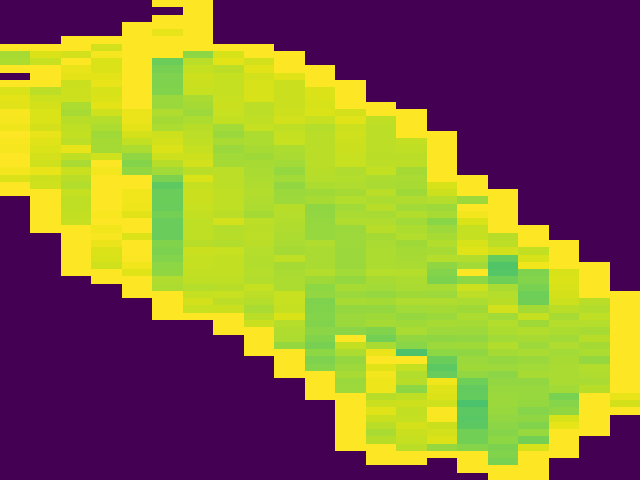car_0027: (4, 3, 640, 478)
